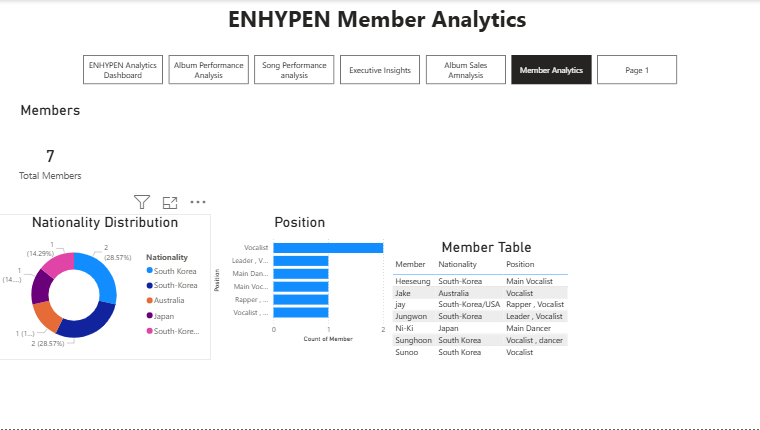

The dashboard page shown, as its layout file describes it:
{"tool":"powerbi","page":{"name":"Member Analytics","canvas":[1280,720],"ordinal":5},"visuals":[{"type":"card","title":"Members","fields":{"Values":["Albums.Total Members"]},"box":[0,171.9,171.9,170.2],"z":0},{"type":"donutChart","title":"Nationality Distribution","fields":{"Category":["Members.Nationality"],"Y":["CountNonNull(Members.Member)"]},"box":[0,359.6,356.1,245.6],"z":1},{"type":"clusteredBarChart","title":"Position","fields":{"Category":["Members.Position"],"Y":["CountNonNull(Members.Member)"]},"box":[356.1,359.6,298.2,221.1],"z":2},{"type":"tableEx","title":"Member Table","fields":{"Values":["Members.Member","Members.Nationality","Members.Position"]},"box":[654.4,401.8,328.1,245.6],"z":3},{"type":"textbox","box":[0,0,1280.7,93],"z":4},{"type":"pageNavigator","box":[140.4,93,1000,49.1],"z":5}]}

Visuals, with their boxes in screenshot pixels (x1, y1, x2, y2), scaled from the page's 1280x720 canvas onto the 760x430 screenshot:
"Members" card: bbox=[0, 103, 102, 204]
"Nationality Distribution" donutChart: bbox=[0, 215, 211, 361]
"Position" clusteredBarChart: bbox=[211, 215, 388, 347]
"Member Table" tableEx: bbox=[389, 240, 583, 387]
textbox: bbox=[0, 0, 759, 56]
pageNavigator: bbox=[83, 56, 677, 85]
